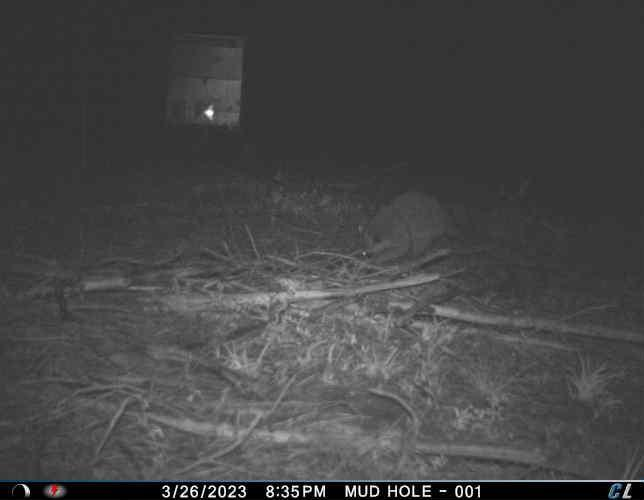Raccoon: (357, 190, 463, 268)
